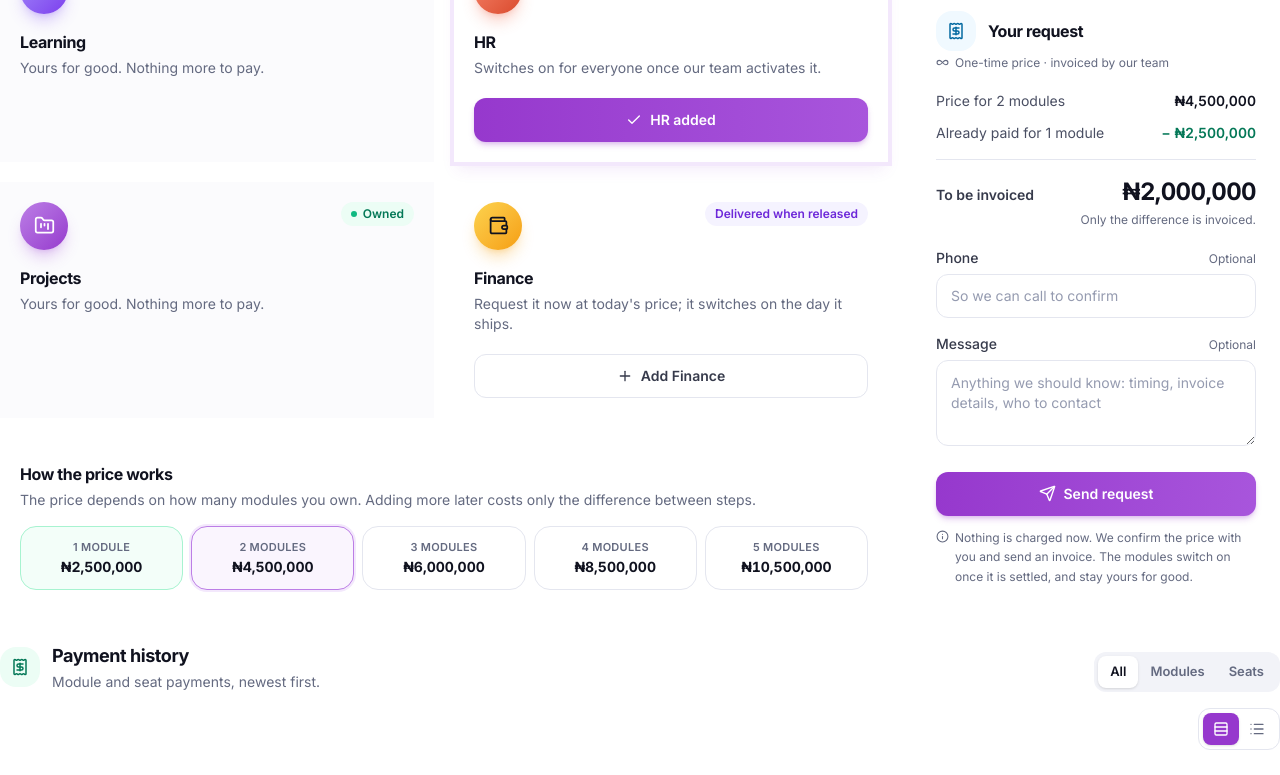
Test: Plan & billing with online payment switched off › sends a request with the picked modules and shows the reference
(page scrolled)
Click the checkbox labelled "Add Finance".
click(671, 376)  # box [474,354,868,398]
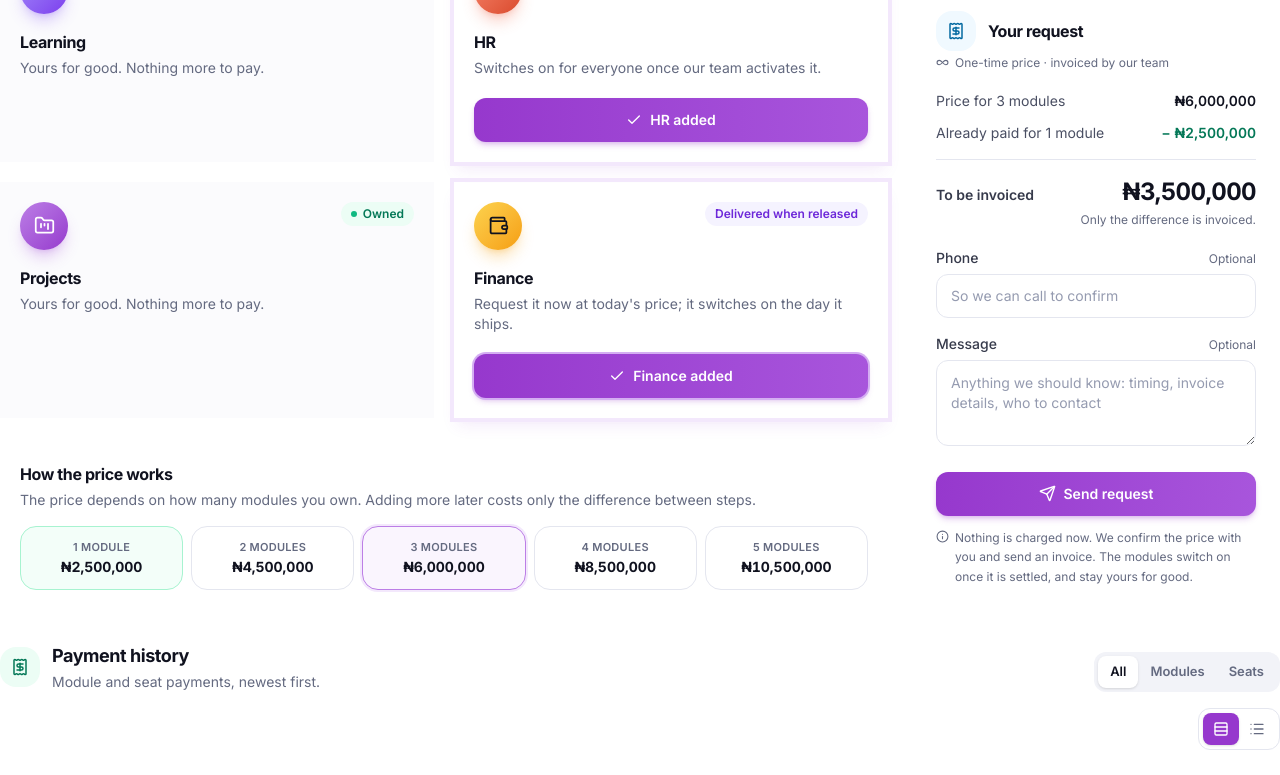
Type "+234 800 000 0000" into the field labelled "Phone".
click(1096, 296); type("+234 800 000 0000")  # box [936,274,1256,318]
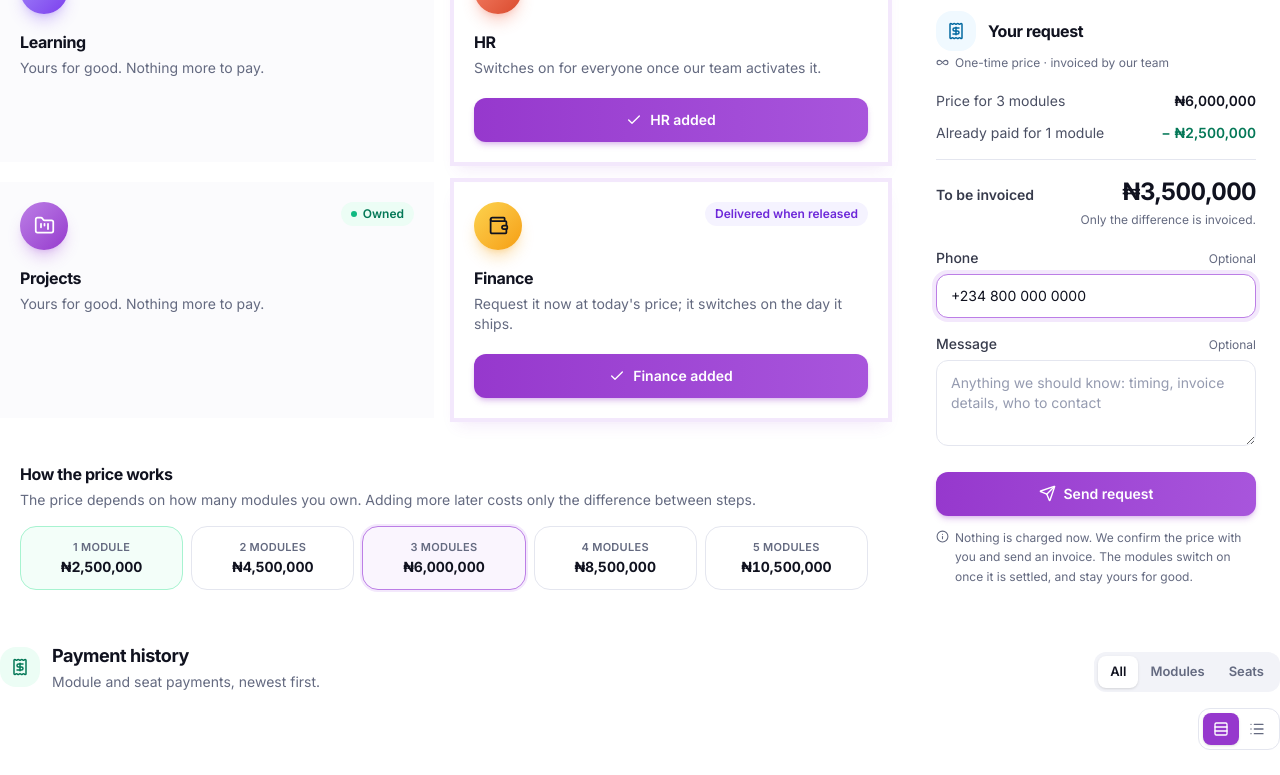
Type "Invoice to accounts, please." into the text box labelled "Message".
click(1096, 403); type("Invoice to accounts, please.")  # box [936,360,1256,446]
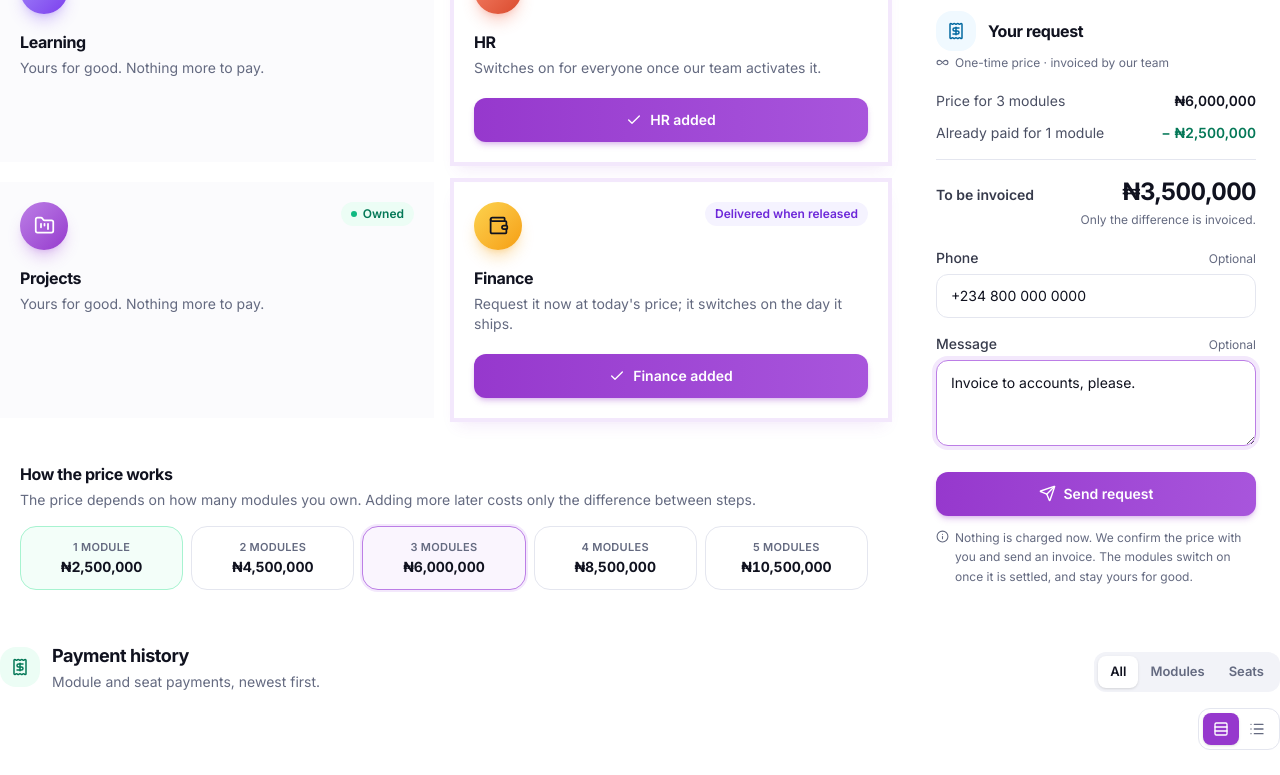
Click the button "Send request".
click(1096, 494)  # box [936,472,1256,516]
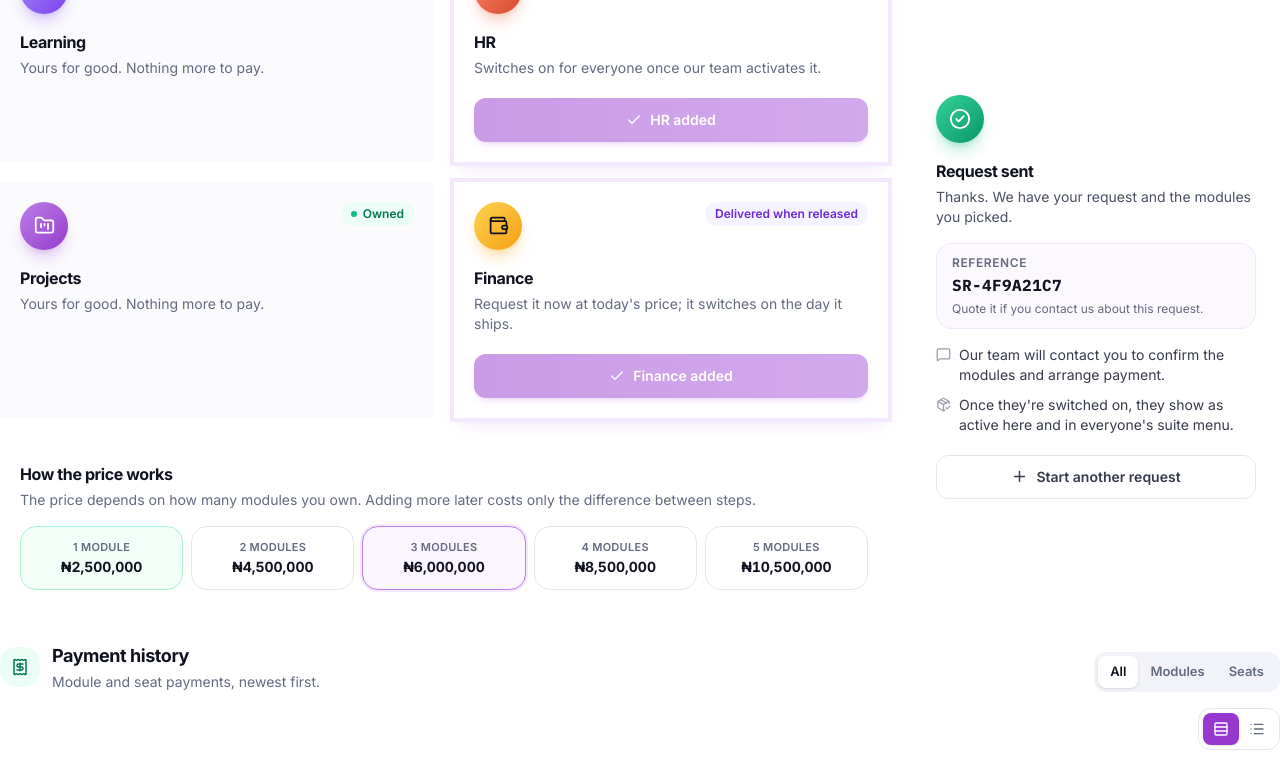
Check: the element "Request sent" shows "SR-4F9A21C7", box [952,275,1062,295]
Check: the element "Request sent" shows "Our team will contact you to confirm the modules and arrange payment.", box [959,346,1224,383]
Check: the element "Request sent" shows "Once they're switched on, they show as active here and in everyone's suite menu.", box [959,396,1234,433]
